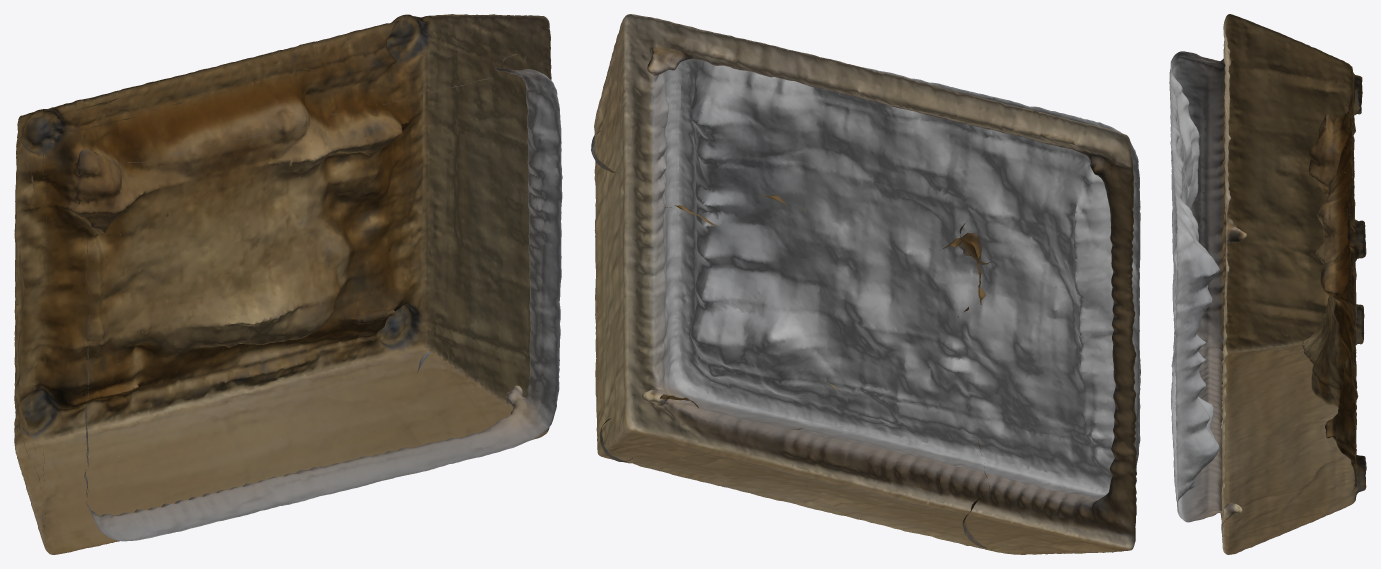
Rendered from soap.glb.
3 views of the same model, side by side, from view 1: azimuth 30°, elevation 25°; view 2: azimuth 150°, elevation 25°; view 3: azimuth 270°, elevation 25° (orthographic). The views are drawn at different scales.
Bounding box in the file's own units: 1 × 0.7936 × 0.406.
